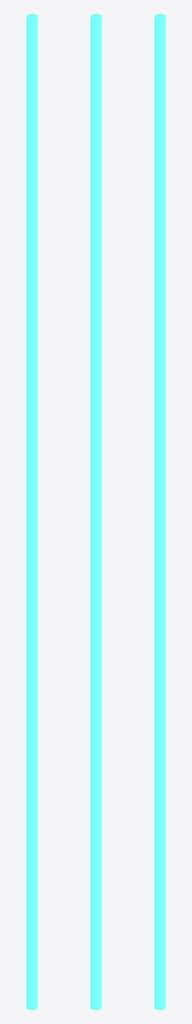
Rendered from JiGuangLou_Opacity_LightRing.FBX.
3 renders of one model, left to right at view 1: azimuth 90°, elevation 25°; view 2: azimuth 210°, elevation 25°; view 3: azimuth 270°, elevation 25°, orthographic.
Visible parts, largest first — view 1: LightRing; view 2: LightRing; view 3: LightRing.
Part boxes in pixels (box(x1,y1,x2,y2)): LightRing: box(26, 14, 37, 1009); LightRing: box(90, 14, 101, 1009); LightRing: box(154, 14, 165, 1009).
Size of the model in its own units: 15.09 by 1418 by 15.09.
